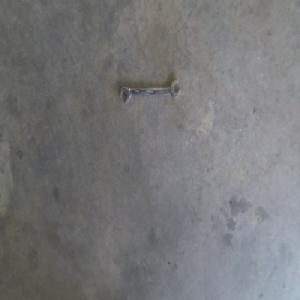Wrench: (119, 79, 181, 105)
